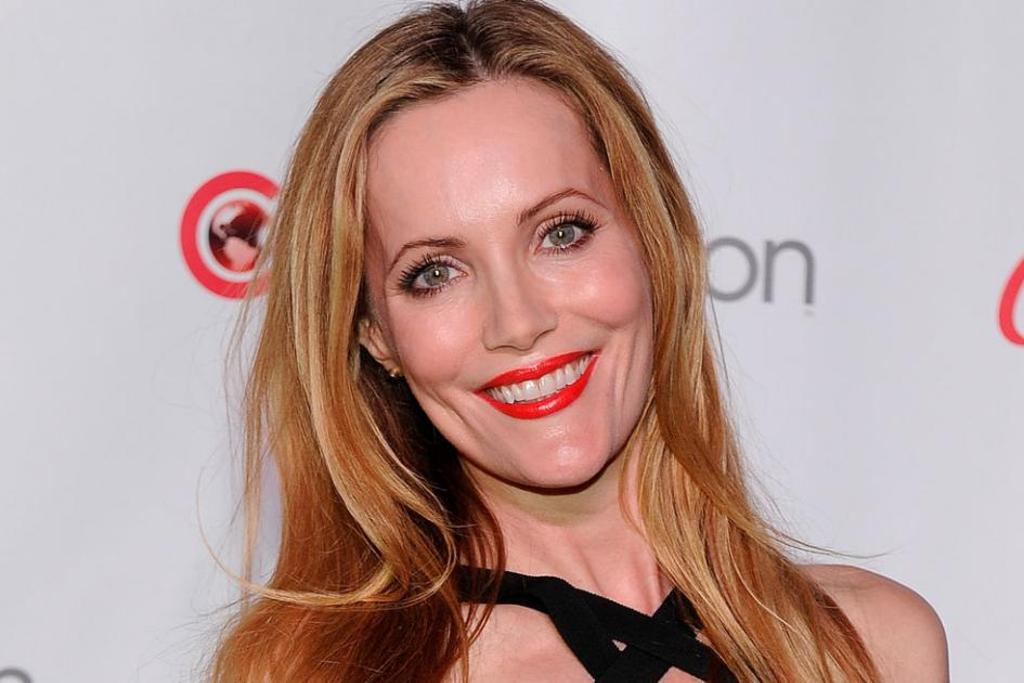face: (354, 78, 660, 490)
